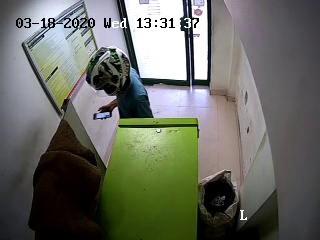helmet: (83, 47, 135, 96)
